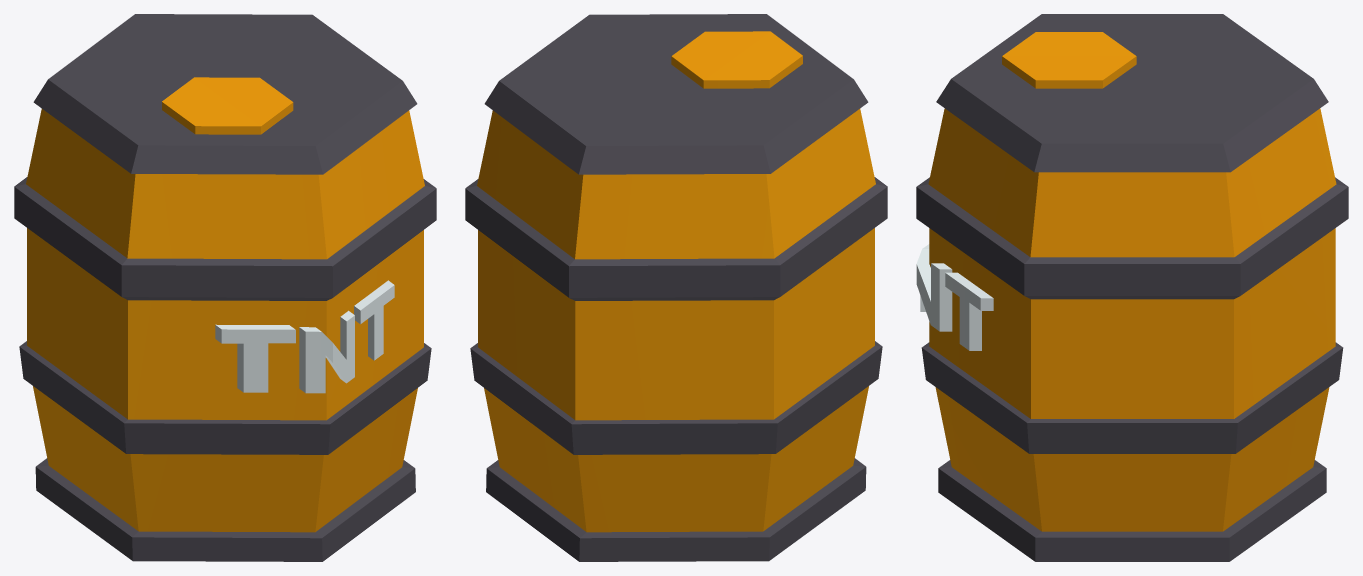
Rendered from tnt_bomb_yellow.fbx.
The picture shows the model from 3 angles, left to right: view 1: azimuth 30°, elevation 25°; view 2: azimuth 150°, elevation 25°; view 3: azimuth 270°, elevation 25°; orthographic projection.
Visible parts, largest first — view 1: tnt_bomb; view 2: tnt_bomb; view 3: tnt_bomb.
Boxes of the visible parts, x1,y1,x2,y2 form: tnt_bomb: [14, 14, 436, 561]; tnt_bomb: [465, 14, 887, 561]; tnt_bomb: [916, 14, 1348, 561].
Bounding box in the file's own units: 1.1 × 1.4 × 1.3.
